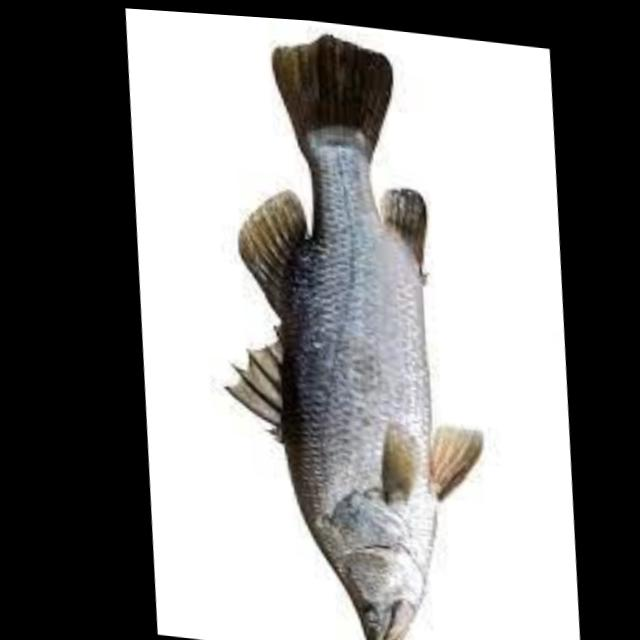Seabass: (174, 18, 529, 640)
